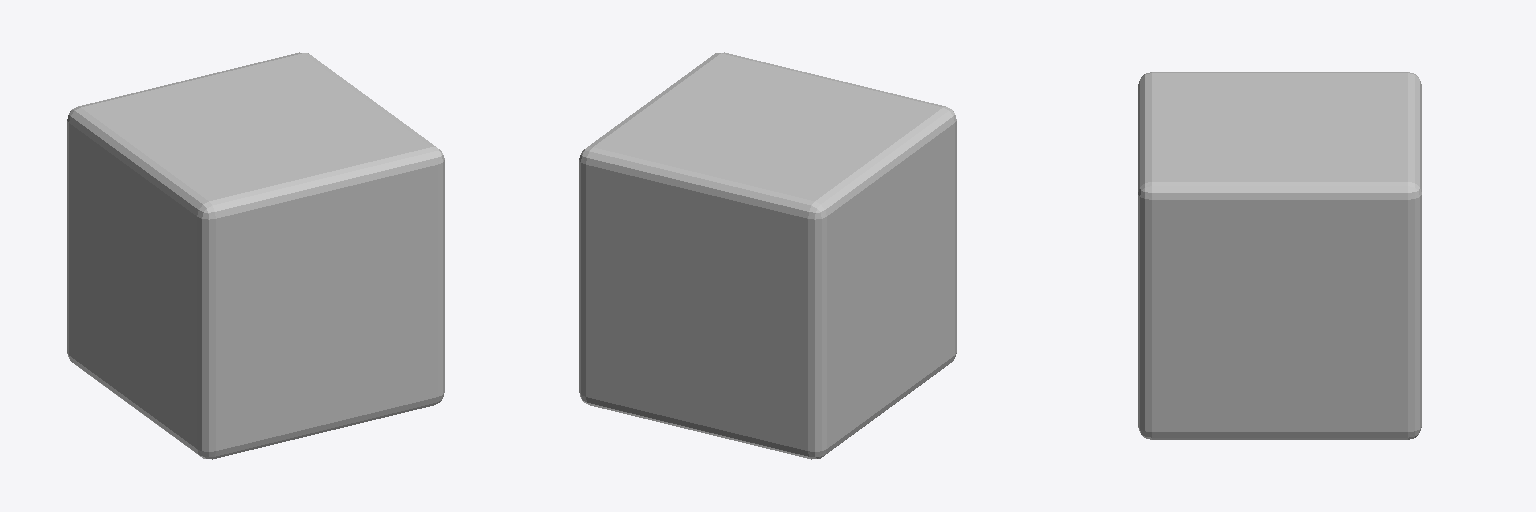
File: gmtk_01.obj
3 renders of one model, left to right at view 1: azimuth 30°, elevation 25°; view 2: azimuth 150°, elevation 25°; view 3: azimuth 270°, elevation 25°, orthographic.
Parts seen in each view (by area): view 1: Cube_Cube.001; view 2: Cube_Cube.001; view 3: Cube_Cube.001.
Boxes of the visible parts, <box> form: Cube_Cube.001: <box>67,52,444,459</box>; Cube_Cube.001: <box>579,52,956,459</box>; Cube_Cube.001: <box>1138,72,1421,439</box>.
Bounding box in the file's own units: 0.2691 × 0.2691 × 0.2691.